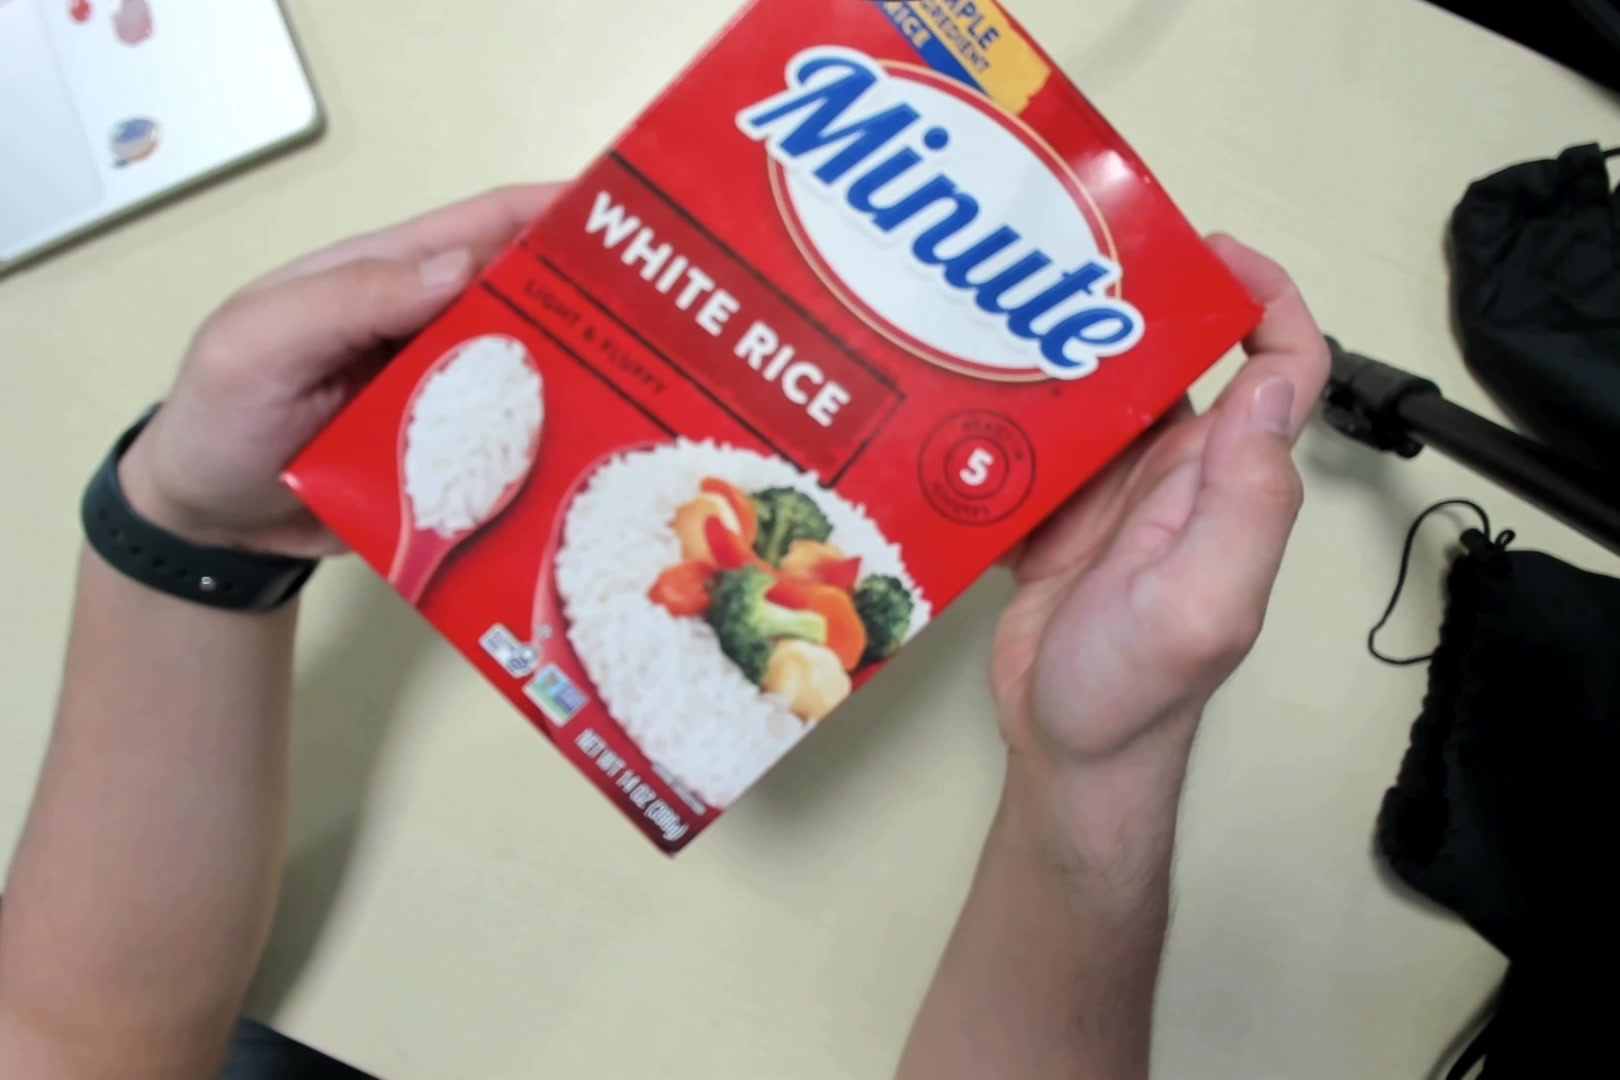Rice(White)_300-399g_NonHalal_NonHealthy: (299, 1, 1268, 861)
